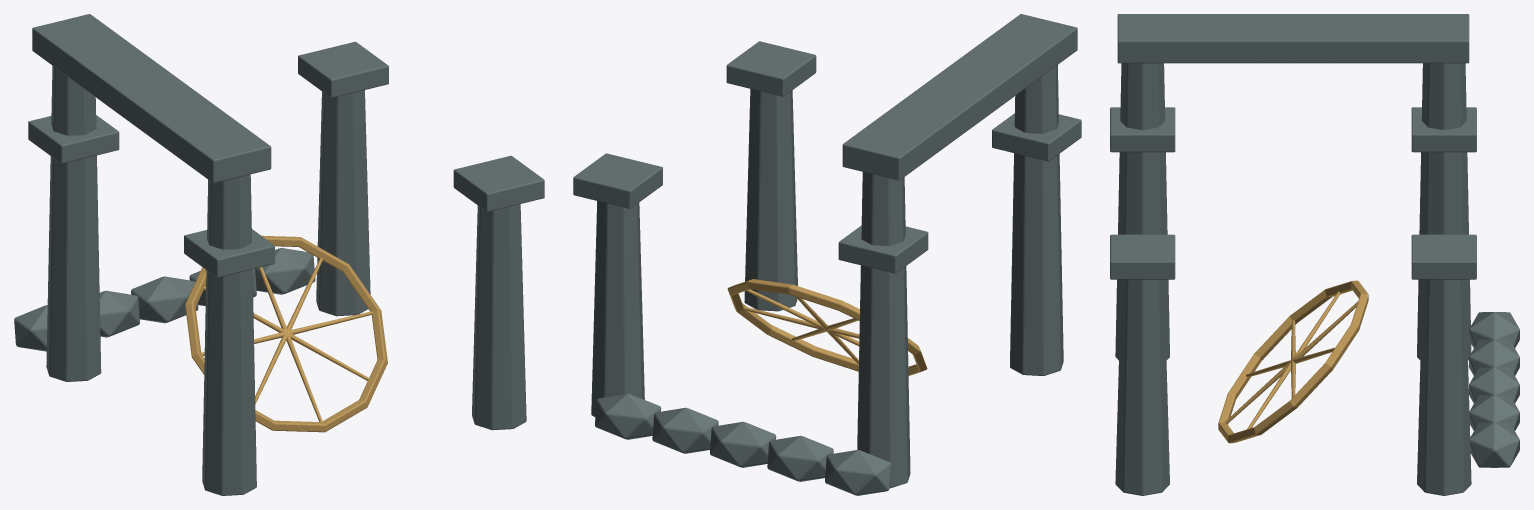
The model's file is ruined_observatory.glb.
3 views of the same model, side by side, from view 1: azimuth 30°, elevation 25°; view 2: azimuth 150°, elevation 25°; view 3: azimuth 270°, elevation 25° (orthographic). The views are drawn at different scales.
Visible parts, largest first — view 1: AncientColumn, StarDial; view 2: AncientColumn, StarDial; view 3: AncientColumn, StarDial.
Boxes of the visible parts, box(x1,y1,x2,y2) form: AncientColumn: box(14, 14, 544, 495); StarDial: box(185, 235, 387, 432); AncientColumn: box(573, 14, 1081, 495); StarDial: box(727, 279, 927, 375); AncientColumn: box(1110, 14, 1519, 495); StarDial: box(1218, 280, 1368, 443).
Size of the model in its own units: 7.35 by 7.45 by 8.16.
